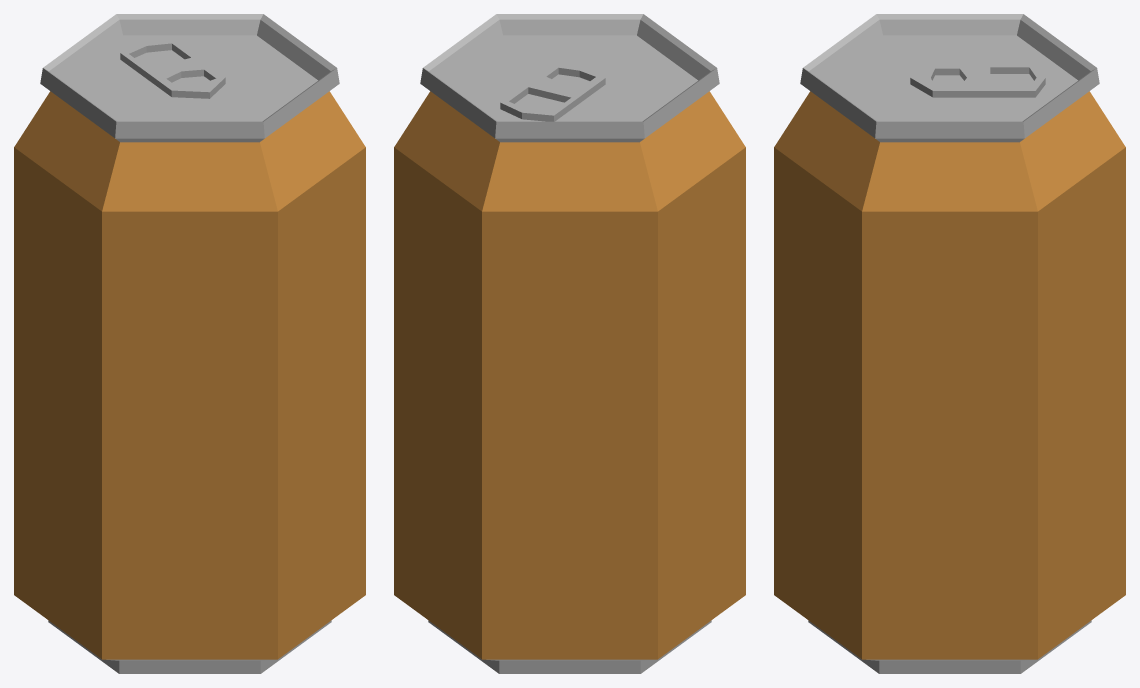
Rendered from BeverageCan1Orange.fbx.
3 renders of one model, left to right at view 1: azimuth 30°, elevation 25°; view 2: azimuth 150°, elevation 25°; view 3: azimuth 270°, elevation 25°, orthographic.
Parts seen in each view (by area): view 1: Cylinder; view 2: Cylinder; view 3: Cylinder.
Boxes of the visible parts, bbox=[...] form: Cylinder: bbox=[14, 14, 365, 673]; Cylinder: bbox=[394, 14, 745, 673]; Cylinder: bbox=[774, 14, 1125, 673].
Size of the model in its own units: 0.1364 by 0.2738 by 0.1575.
